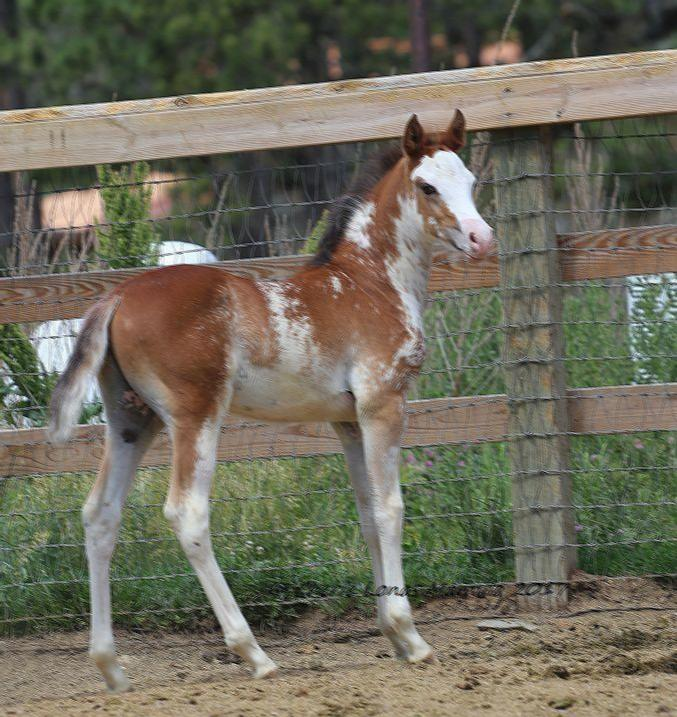horse: (43, 107, 496, 694)
